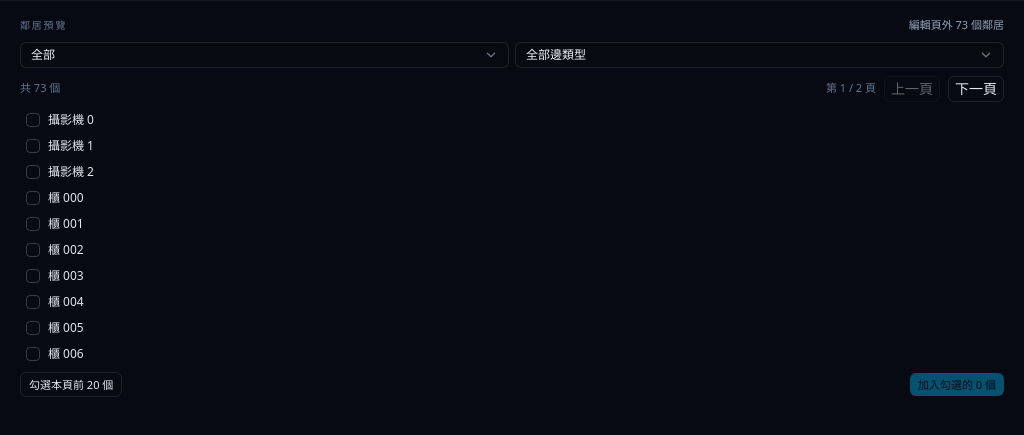
Test: NeighborPicker 一跳鄰居預覽 › 超過預算時預覽顯示原因、加入停用；工作區不變
Step 1. Click the button "勾選本頁前 20 個" → (71, 384), box left=20, top=372, right=122, bottom=397
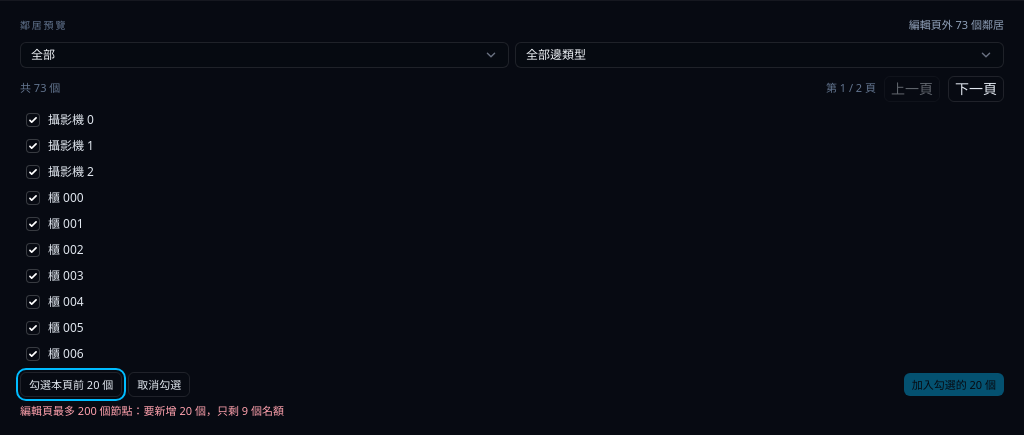
Check: the button "加入勾選的 20 個" is disabled, box left=904, top=372, right=1004, bottom=396
Check: the text "編輯頁最多 200 個節點：要新增 20 個，只剩 9 個名額" is shown, box left=20, top=403, right=284, bottom=418
